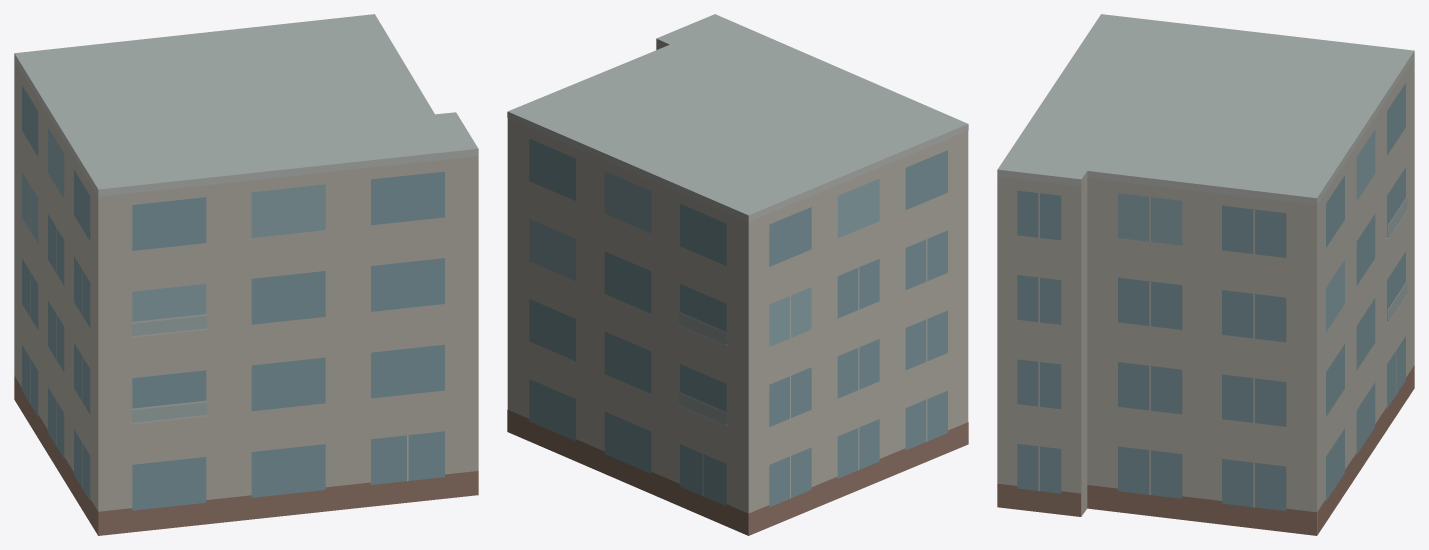
The model's file is survey-upis-32801087.glb.
3 views of the same model, side by side, from view 1: azimuth 30°, elevation 25°; view 2: azimuth 150°, elevation 25°; view 3: azimuth 270°, elevation 25° (orthographic). The views are drawn at different scales.
Visible parts, largest first — view 1: survey-upis-32801087.tmp; view 2: survey-upis-32801087.tmp; view 3: survey-upis-32801087.tmp.
Part boxes in pixels (x1,y1,x2,y2): survey-upis-32801087.tmp: [14, 14, 478, 535]; survey-upis-32801087.tmp: [507, 14, 968, 535]; survey-upis-32801087.tmp: [997, 14, 1414, 535].
Bounding box in the file's own units: 13.68 × 11.68 × 13.09.
